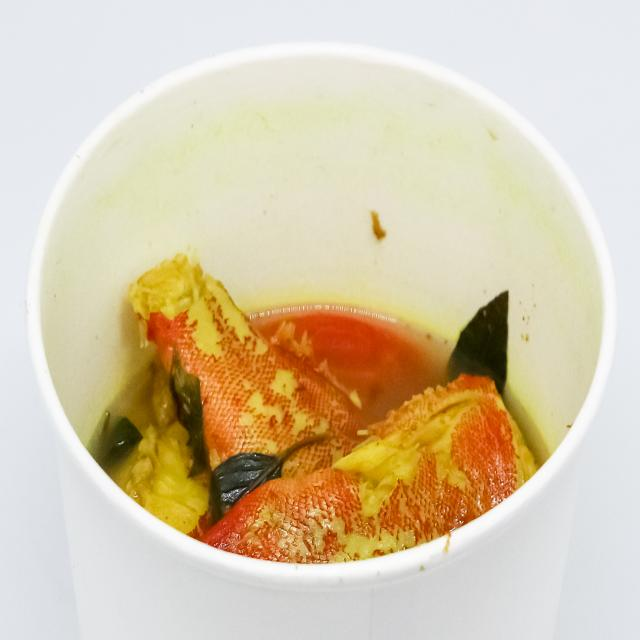Gulai-Ikan-Mas: (72, 249, 567, 586)
